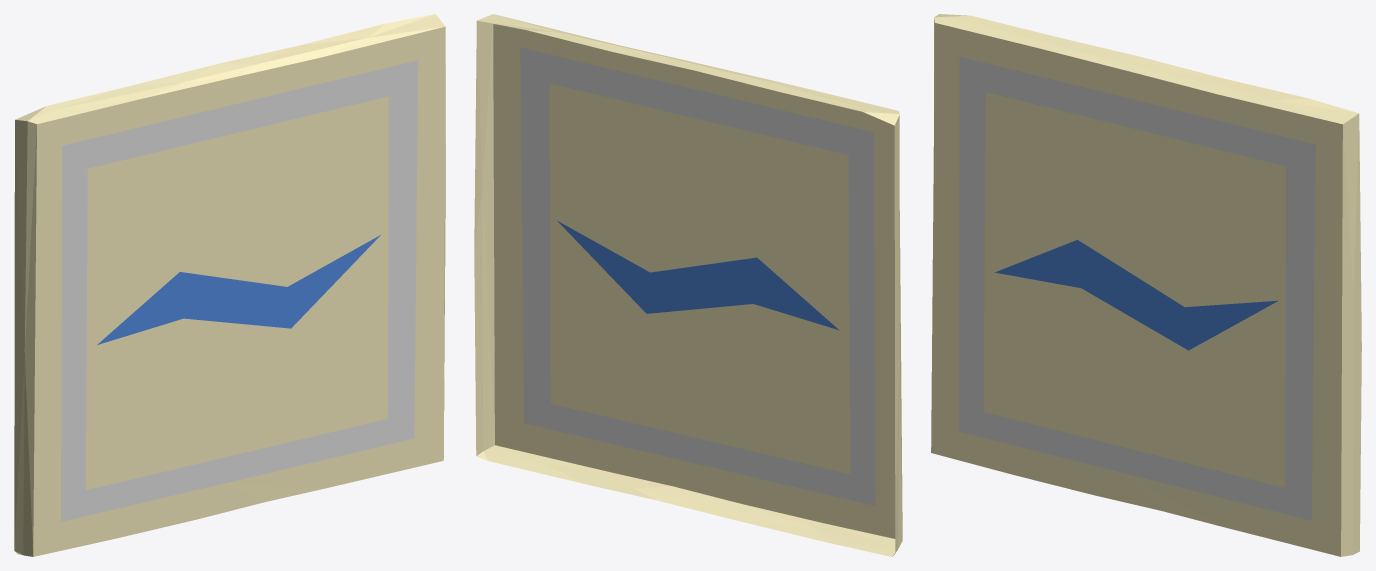
The model's file is ui_button_toggleMixed.glb.
The picture shows the model from 3 angles, left to right: view 1: azimuth 30°, elevation 25°; view 2: azimuth 150°, elevation 25°; view 3: azimuth 330°, elevation 25°; orthographic projection.
Parts seen in each view (by area): view 1: Cube; view 2: Cube; view 3: Cube.
Boxes of the visible parts, x1=… form: Cube: x1=14, y1=14, x2=445, y2=556; Cube: x1=474, y1=14, x2=902, y2=556; Cube: x1=931, y1=14, x2=1361, y2=556.
Bounding box in the file's own units: 1.99 × 1.99 × 0.1075.
